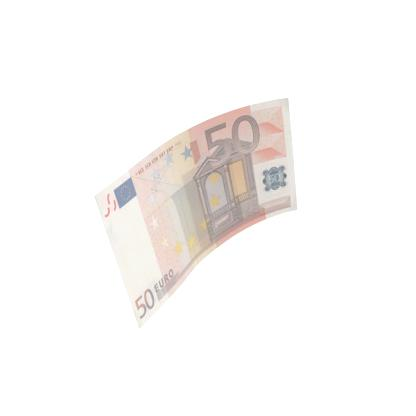euro_banknote: (75, 131, 333, 266)
